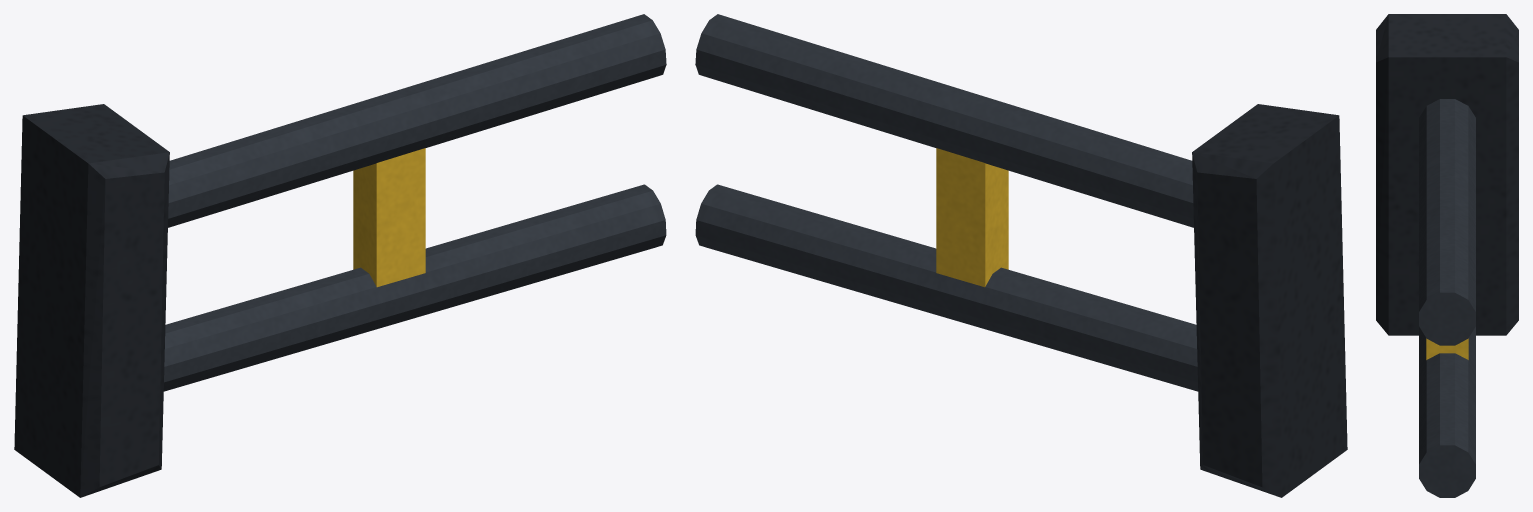
File: stock_minimal_v2.glb
The picture shows the model from 3 angles, left to right: view 1: azimuth 30°, elevation 25°; view 2: azimuth 150°, elevation 25°; view 3: azimuth 270°, elevation 25°; orthographic projection. The views are drawn at different scales.
Visible parts, largest first — view 1: stock_minimal_mesh; view 2: stock_minimal_mesh; view 3: stock_minimal_mesh.
Part boxes in pixels (x1=…): stock_minimal_mesh: x1=14, y1=14, x2=666, y2=497; stock_minimal_mesh: x1=695, y1=14, x2=1347, y2=497; stock_minimal_mesh: x1=1376, y1=14, x2=1518, y2=497.
Bounding box in the file's own units: 0.1484 × 0.078 × 0.034.
3 materials, 3 textured.
